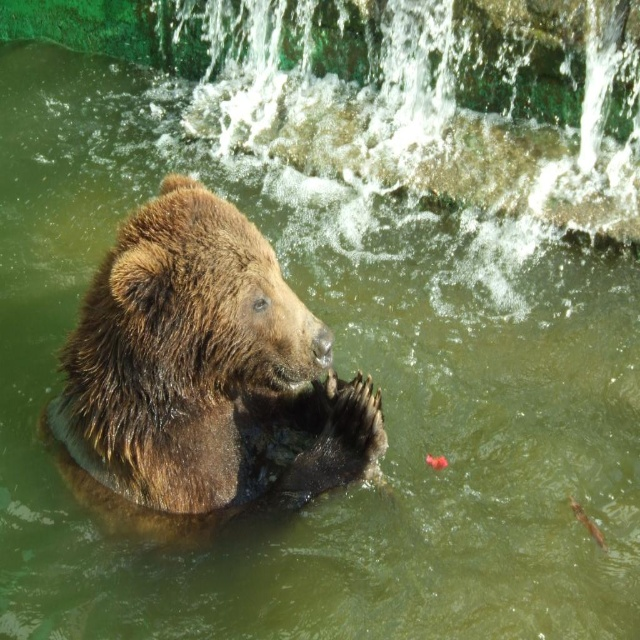Brown bear: (32, 174, 393, 549)
